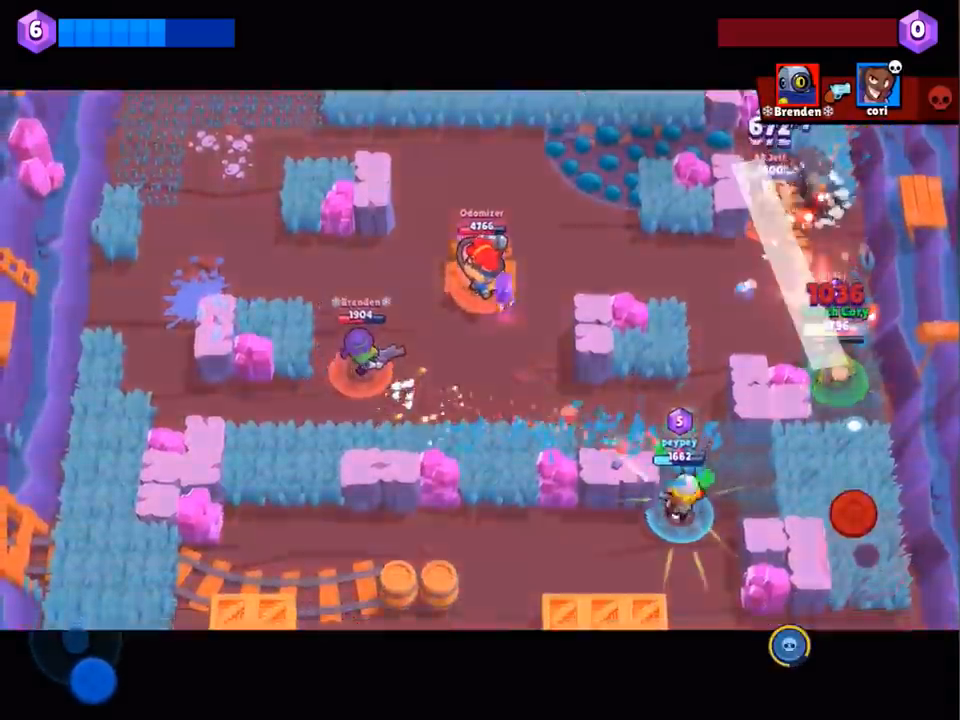move_stick: (73, 659, 121, 708)
red: (448, 206, 530, 320), (327, 312, 405, 392)
